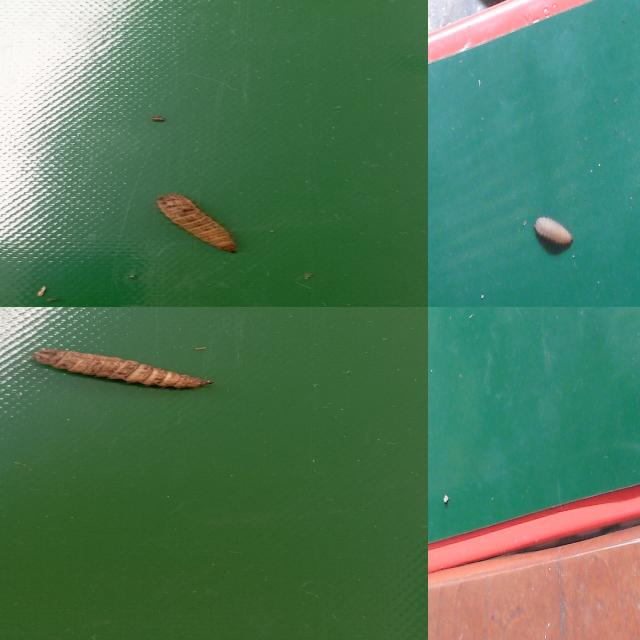Maggot: (33, 350, 210, 392), (155, 194, 239, 255), (531, 213, 576, 258)
